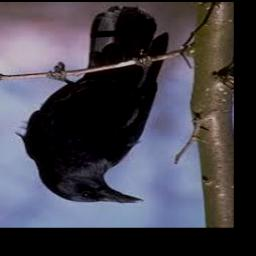Crow: (16, 6, 168, 204)
